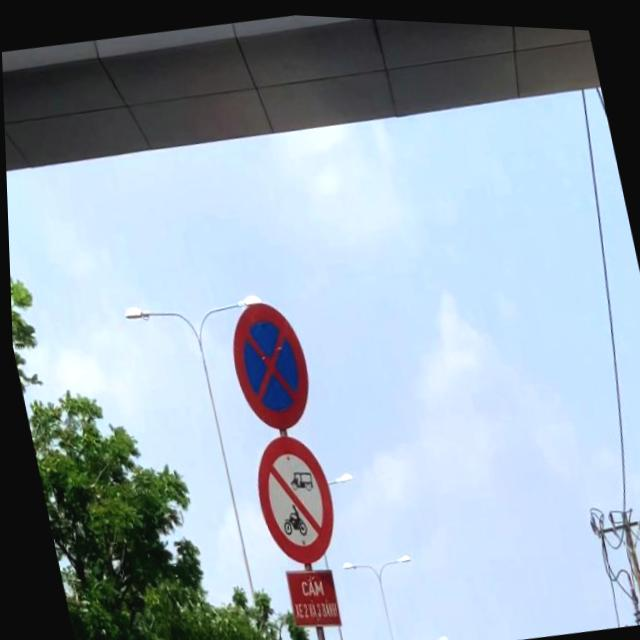Cam dung xe va do xe: (219, 292, 316, 434)
